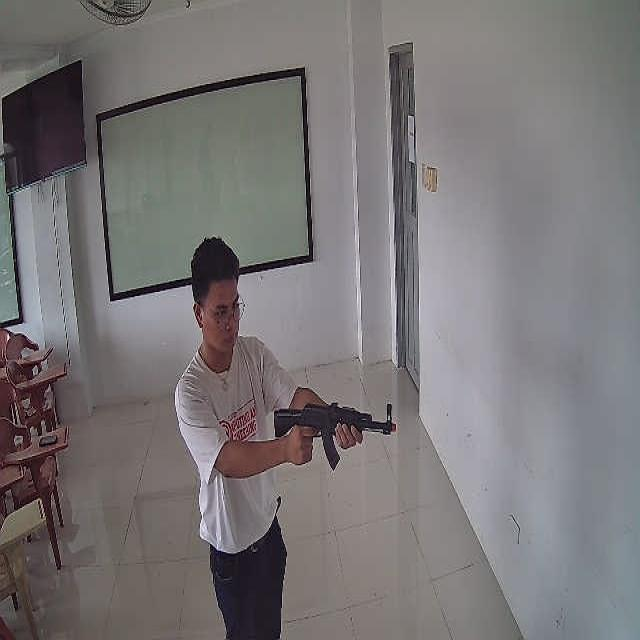rifle: (274, 404, 396, 471)
